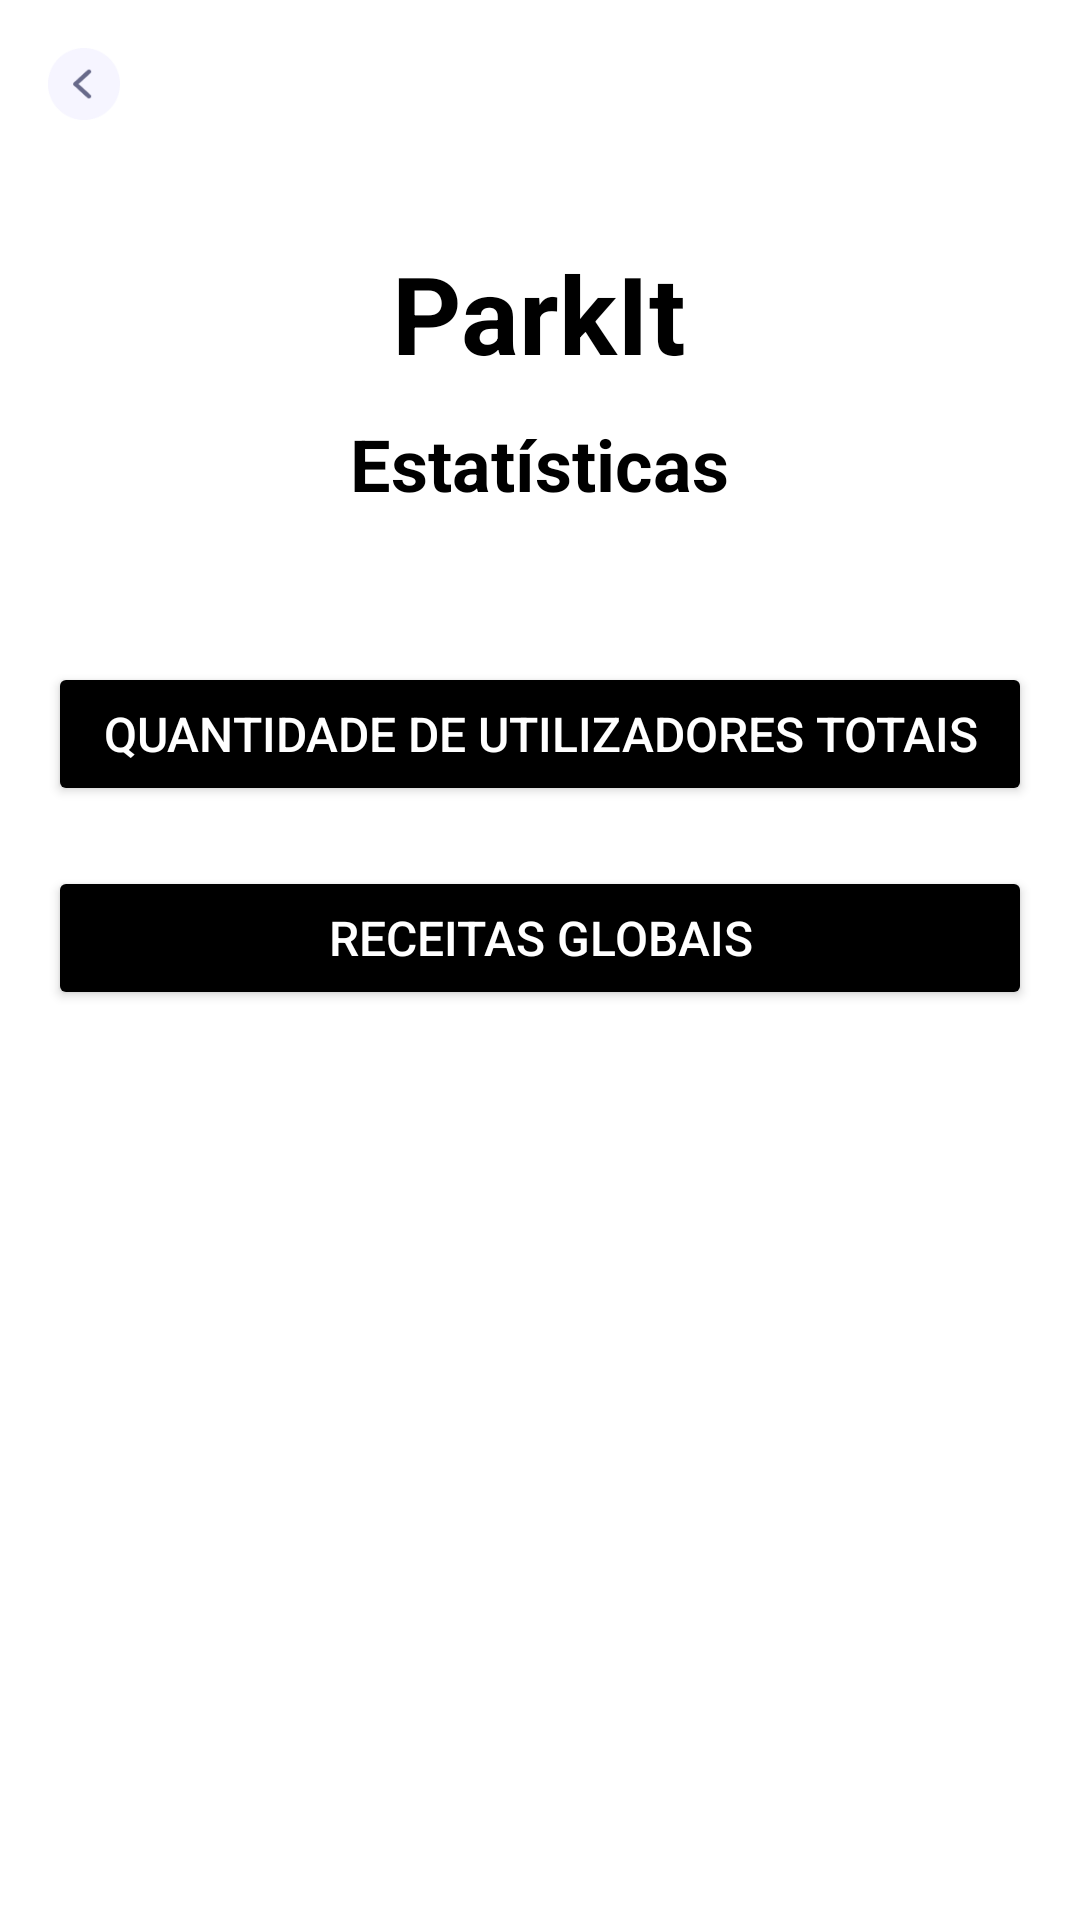

Screen size 1080 × 1920. Icon name, then its center in pixels as (x=x, y=y):
Voltar: (x=84, y=84)
